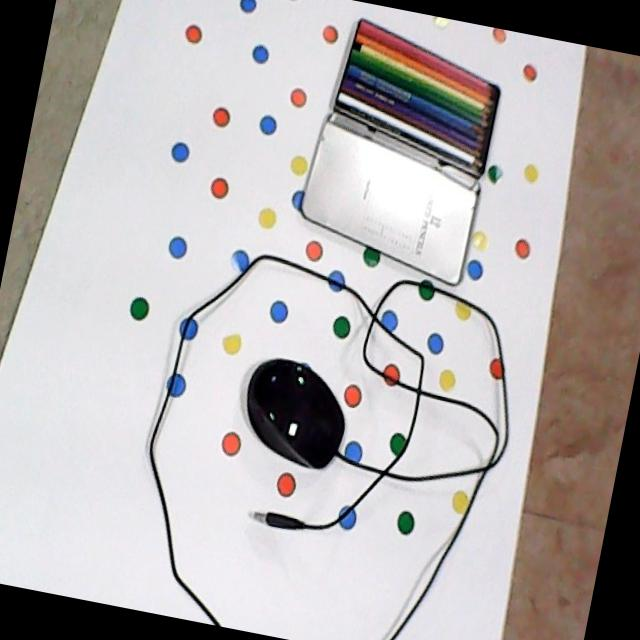color: (324, 6, 505, 185)
mouse: (223, 330, 377, 509)
